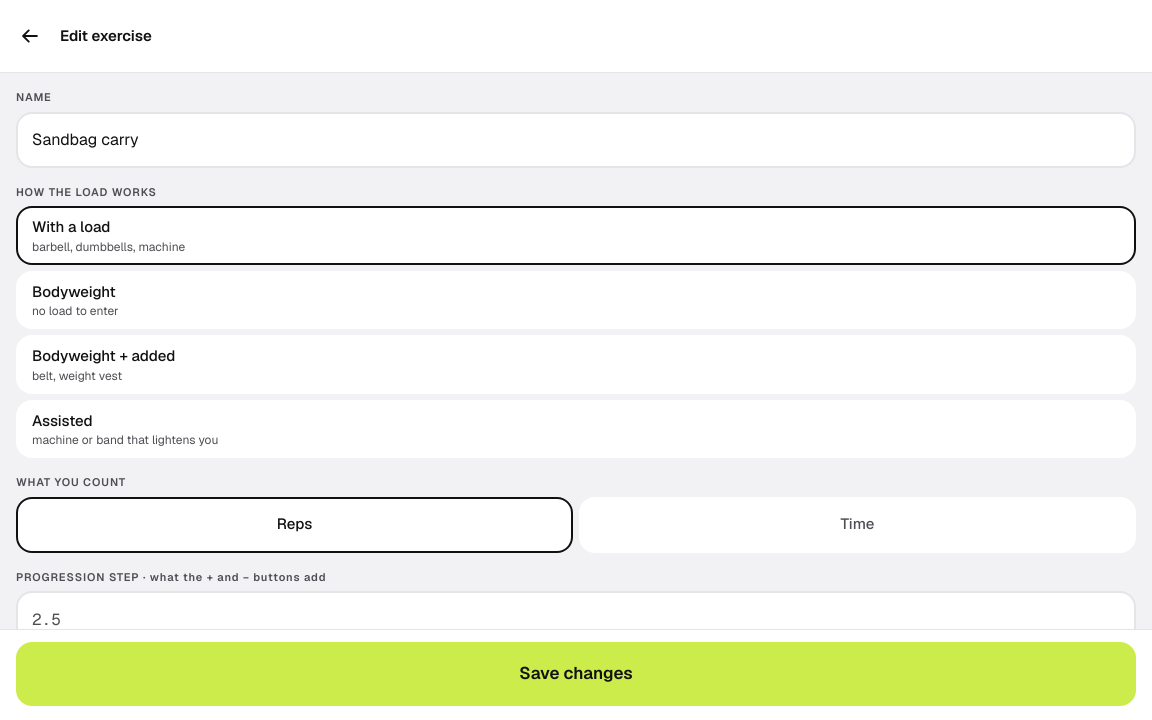
Scenario: ExerciseEditSheet › refuses a rename onto a name already taken, writing nothing
Replace the text in the field named "Exercise name" with "Squat" at {"x": 576, "y": 140}, box [16,112,1136,168]
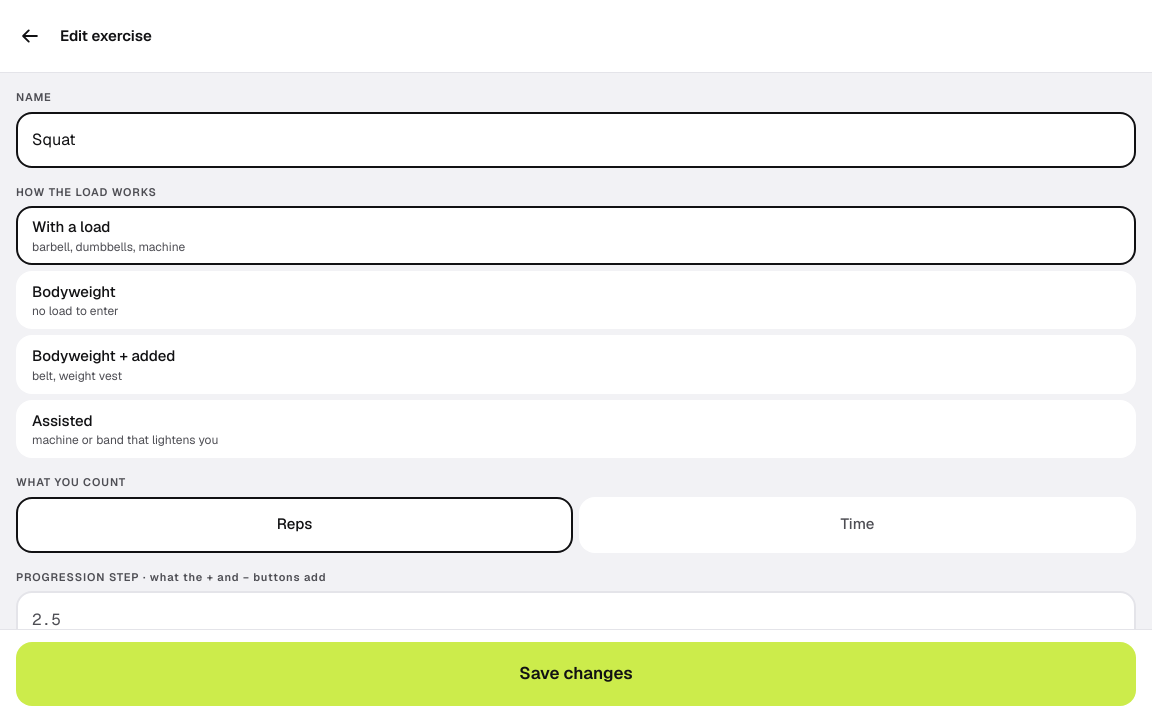
Click the button "Save changes" at {"x": 576, "y": 674}, box [16,642,1136,706]
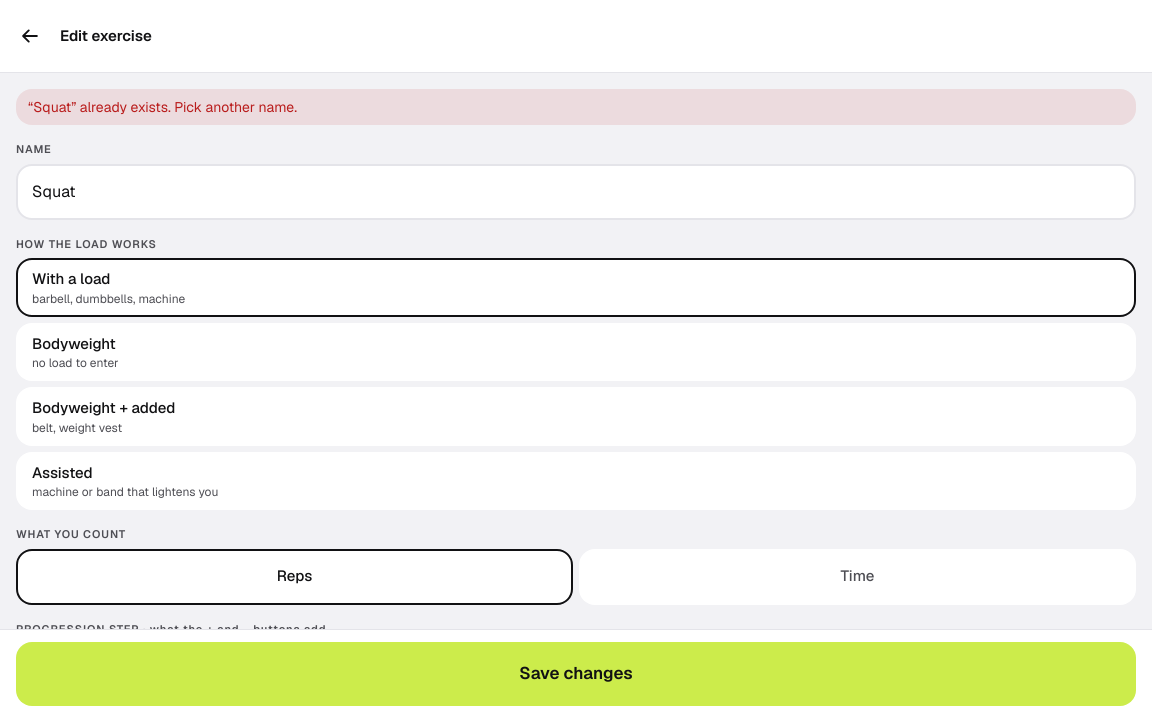
Expected: the message "“Squat” already exists. Pick another name." is shown, [16,89,1136,125]
